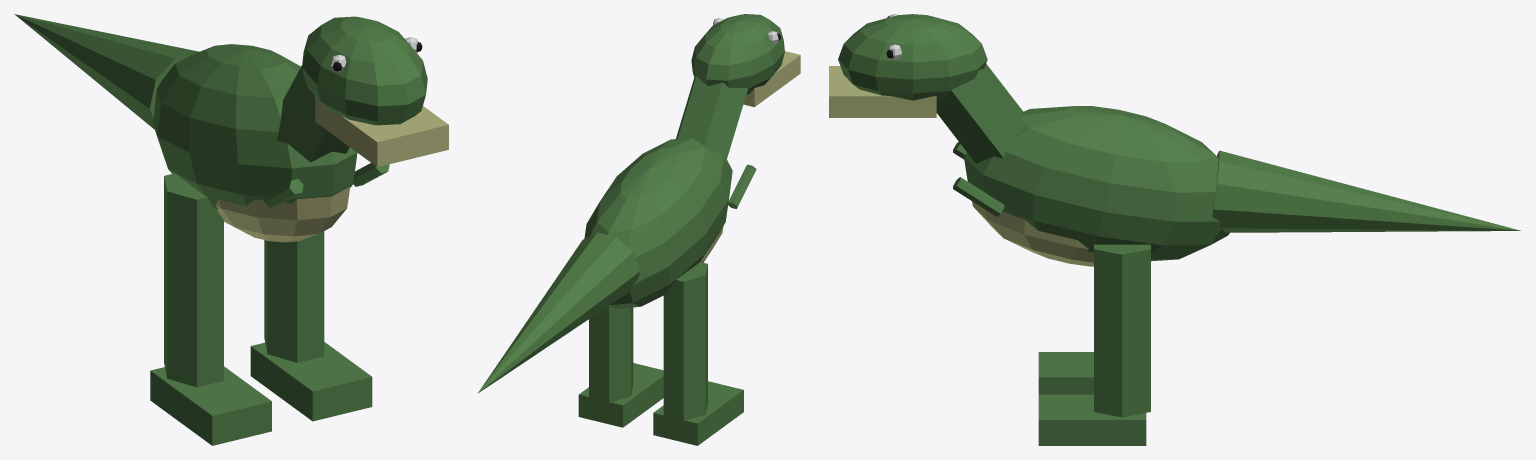
Rendered from trex.glb.
3 renders of one model, left to right at view 1: azimuth 30°, elevation 25°; view 2: azimuth 150°, elevation 25°; view 3: azimuth 270°, elevation 25°, orthographic. The views are drawn at different scales.
Visible parts, largest first — view 1: trex; view 2: trex; view 3: trex.
Part boxes in pixels (left/top/right/bottom): trex: left=14, top=14, right=448, bottom=445; trex: left=477, top=14, right=800, bottom=445; trex: left=829, top=14, right=1520, bottom=445.
Size of the model in its own units: 1.34 by 3.62 by 5.79.
